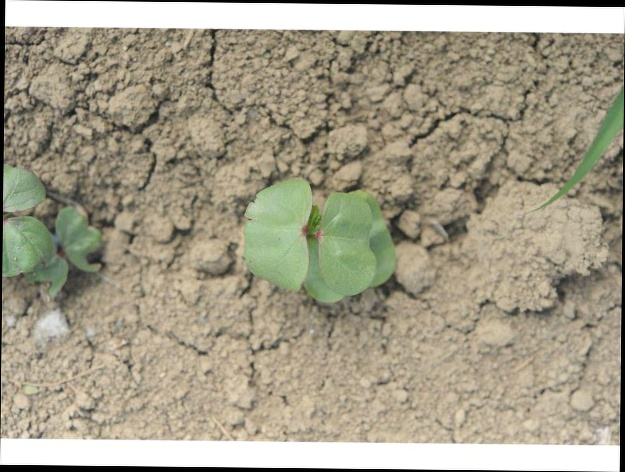cotton: (242, 177, 399, 305), (4, 166, 104, 296)
